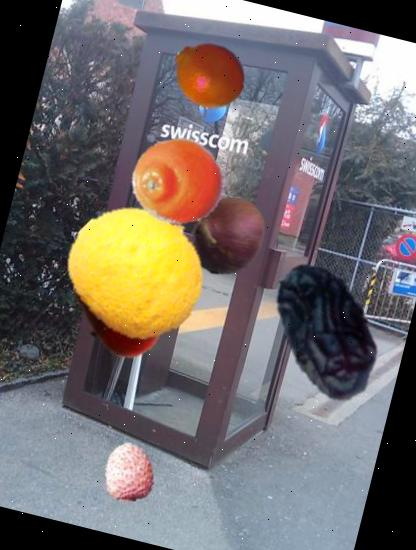Cantaloupe: (54, 186, 222, 354)
Dates: (238, 242, 416, 421)
Lychee: (94, 437, 166, 508)
Nectarine: (52, 240, 184, 372)
Onion: (178, 187, 276, 285)
Tangelo: (121, 126, 235, 240), (164, 29, 254, 119)
